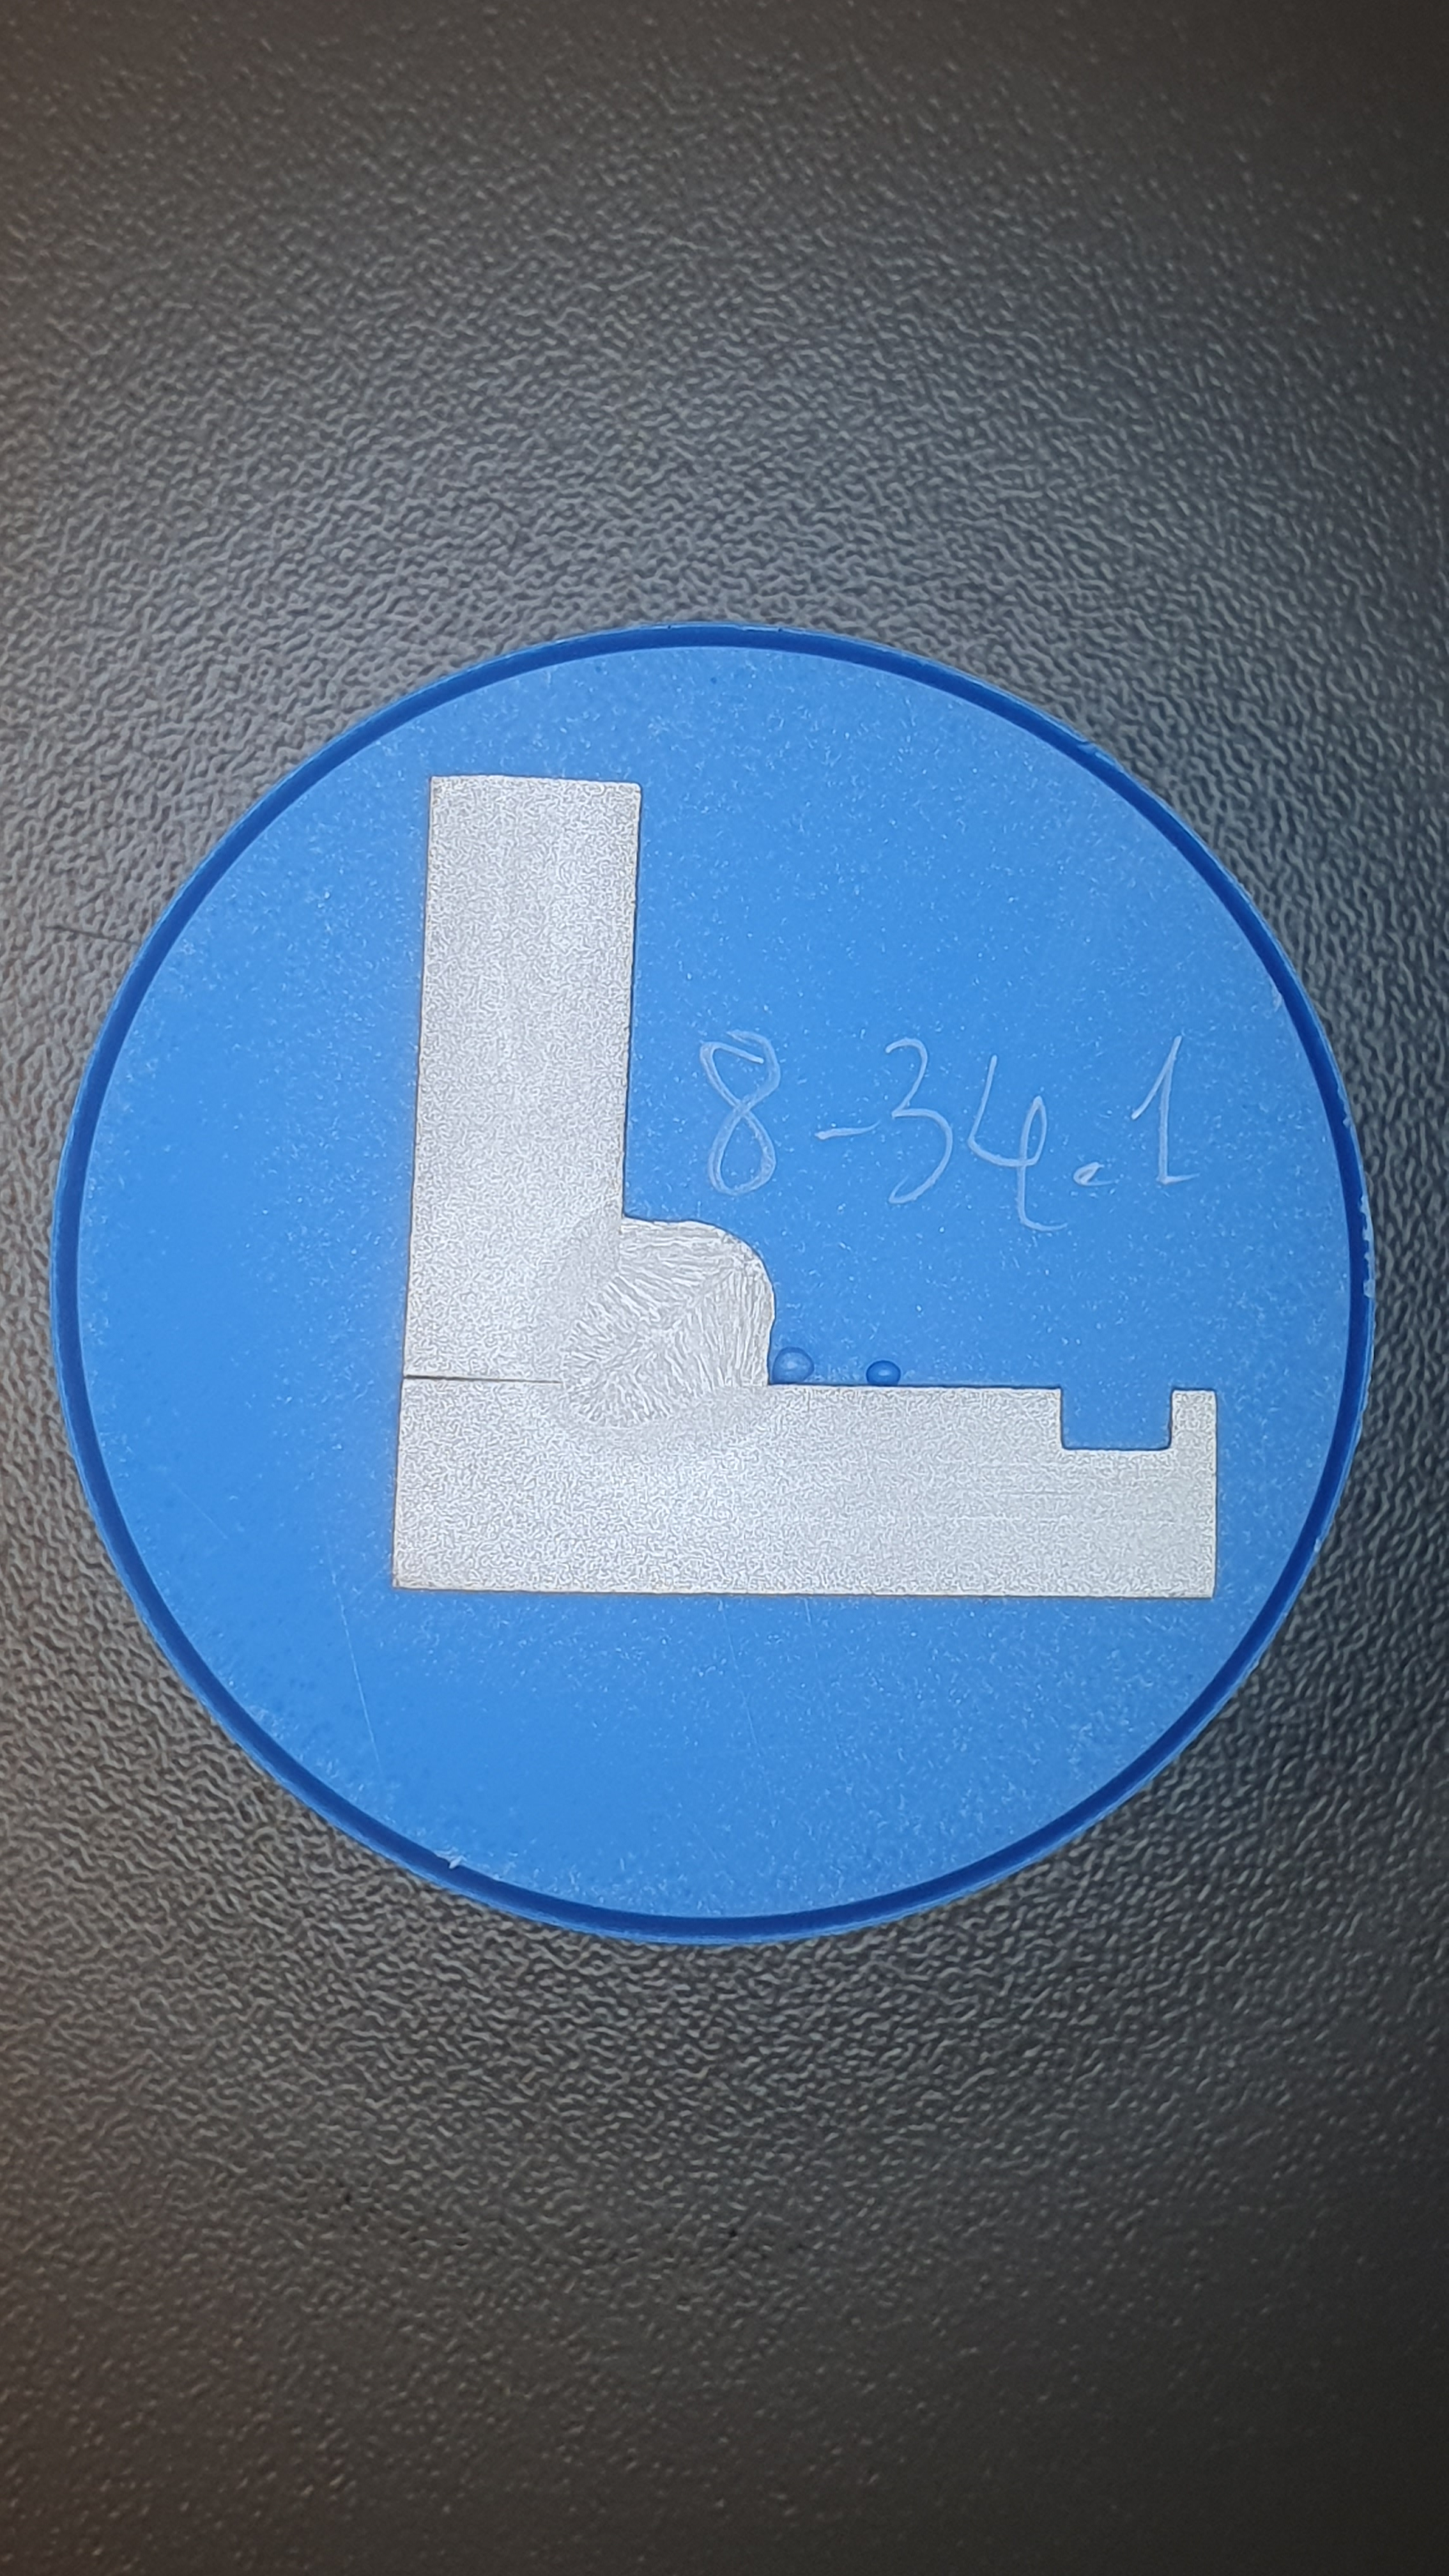Fusion: (560, 1216, 774, 1426)
Hintergrund: (79, 649, 1353, 1912)
Metall: (390, 774, 1217, 1598)
Nebenbereich: (531, 1205, 780, 1460)
